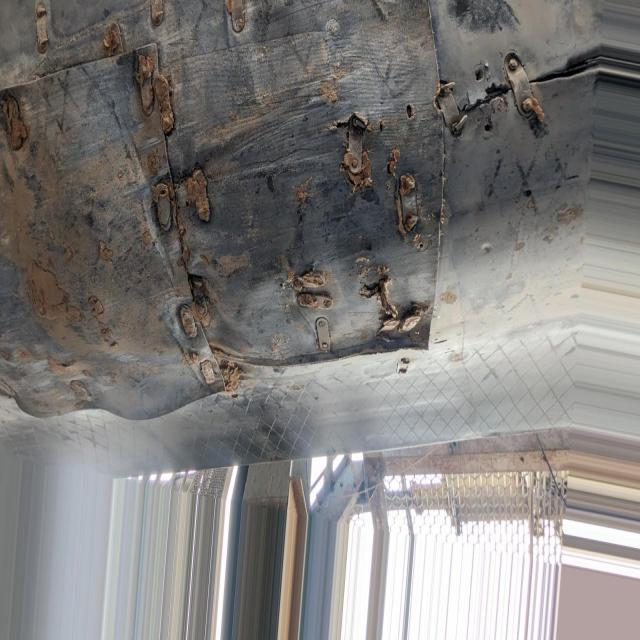patch work: (0, 0, 587, 422)
